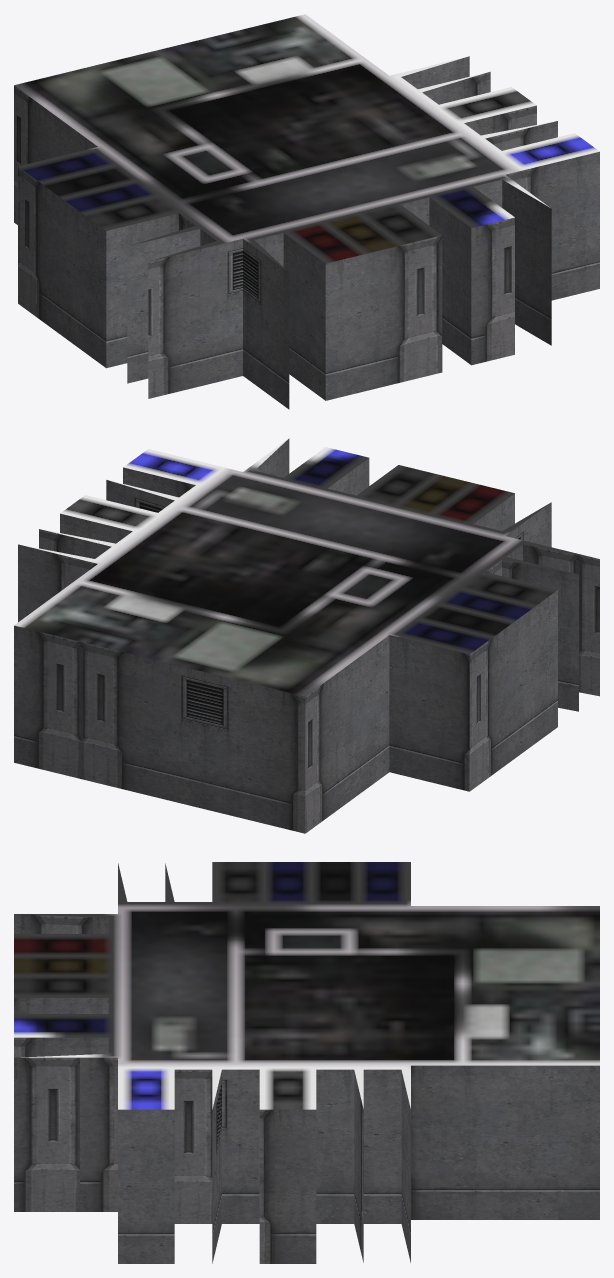
File: BuildingSystem-03-Advance-04-ReinforcedLow-3-099-02.glb
The picture shows the model from 3 angles, top to bottom: view 1: azimuth 30°, elevation 25°; view 2: azimuth 150°, elevation 25°; view 3: azimuth 270°, elevation 25°; orthographic projection. The views are drawn at different scales.
Visible parts, largest first — view 1: buildings/saxarba/SMV_Buildings/BuildingSystem-03-Advance-04; view 2: buildings/saxarba/SMV_Buildings/BuildingSystem-03-Advance-04; view 3: buildings/saxarba/SMV_Buildings/BuildingSystem-03-Advance-04.
Boxes of the visible parts, left/top/right/bottom form: buildings/saxarba/SMV_Buildings/BuildingSystem-03-Advance-04: left=14, top=14, right=599, bottom=409; buildings/saxarba/SMV_Buildings/BuildingSystem-03-Advance-04: left=14, top=438, right=599, bottom=833; buildings/saxarba/SMV_Buildings/BuildingSystem-03-Advance-04: left=14, top=862, right=599, bottom=1263.
Size of the model in its own units: 62 by 18 by 62.
